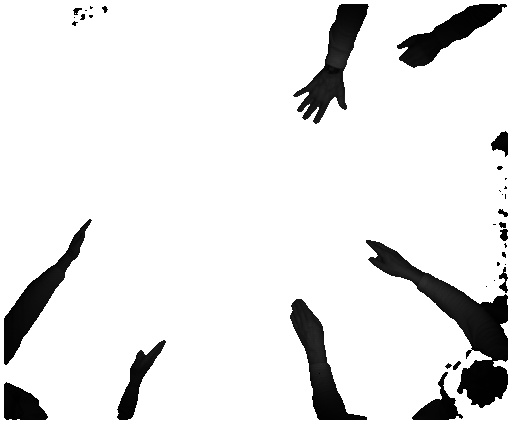hand: (288, 74, 350, 127), (360, 240, 419, 281), (288, 296, 327, 353), (392, 33, 439, 71)
spine: (63, 216, 95, 273), (130, 336, 167, 382)
